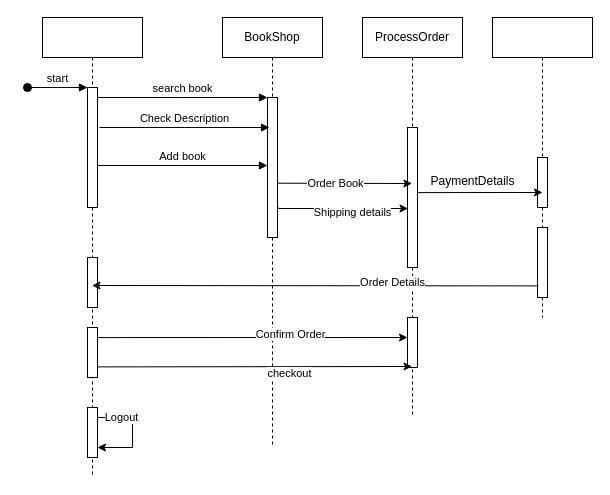
Image size: 610x495. Some labels were removed from this diagram. Each missing label, with the box of its shape:
Customer: (42, 16, 142, 478)
OrderSummary: (492, 16, 592, 318)
